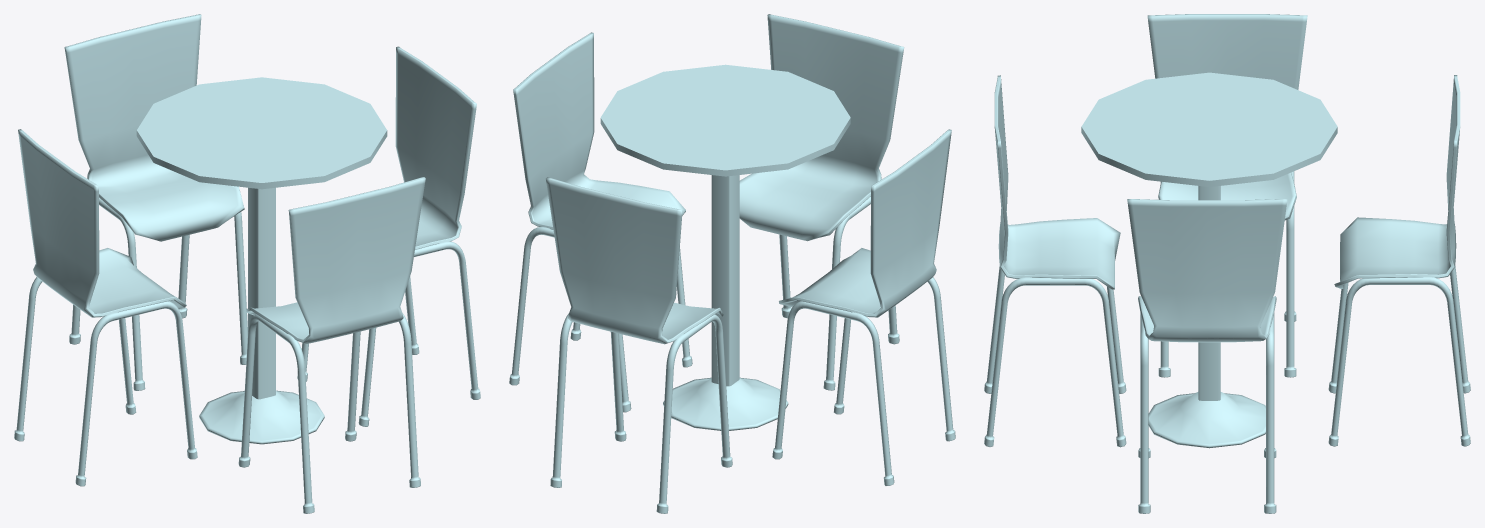
File: fries_Shop_Table_Red.fbx
3 views of the same model, side by side, from view 1: azimuth 30°, elevation 25°; view 2: azimuth 150°, elevation 25°; view 3: azimuth 270°, elevation 25° (orthographic). The views are drawn at different scales.
Parts seen in each view (by area): view 1: Table02, Red_Chair04, Red_Chair02, Red_Chair01, Red_Chair03; view 2: Table02, Red_Chair04, Red_Chair02, Red_Chair01, Red_Chair03; view 3: Table02, Red_Chair03, Red_Chair01, Red_Chair02, Red_Chair04.
Boxes of the visible parts, left/top/right/bottom form: Table02: left=136, top=77, right=387, bottom=444; Red_Chair04: left=64, top=14, right=247, bottom=390; Red_Chair02: left=238, top=177, right=425, bottom=513; Red_Chair01: left=14, top=129, right=197, bottom=486; Red_Chair03: left=297, top=46, right=480, bottom=426; Table02: left=600, top=64, right=850, bottom=430; Red_Chair04: left=546, top=177, right=732, bottom=513; Red_Chair02: left=739, top=14, right=904, bottom=390; Red_Chair01: left=772, top=129, right=955, bottom=485; Red_Chair03: left=509, top=32, right=692, bottom=412; Table02: left=1081, top=72, right=1337, bottom=448; Red_Chair03: left=1127, top=199, right=1287, bottom=513; Red_Chair01: left=1147, top=14, right=1307, bottom=377; Red_Chair02: left=984, top=75, right=1126, bottom=447; Red_Chair04: left=1328, top=75, right=1470, bottom=446.
Size of the model in its own units: 1.45 by 1.07 by 1.52.
